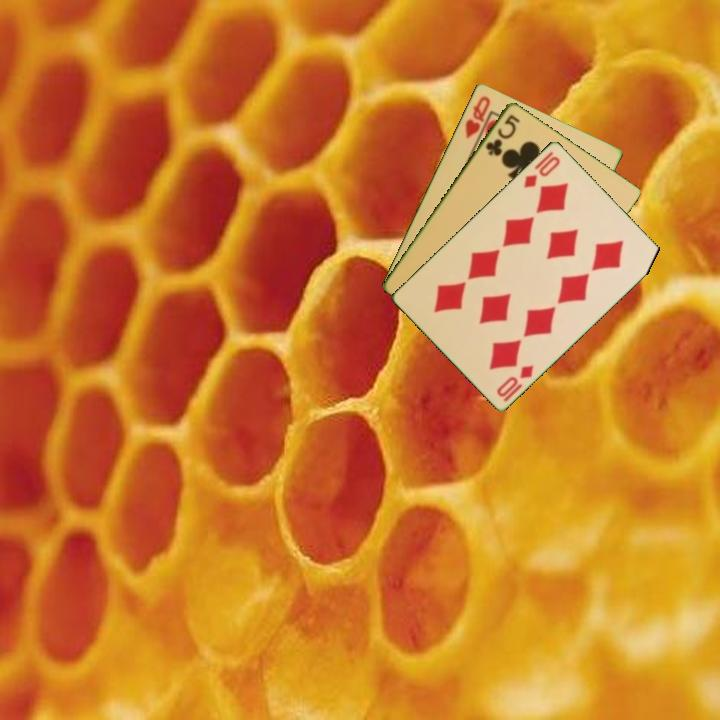10d: (493, 361, 537, 405), (520, 148, 563, 191)
5c: (482, 111, 523, 159)
Qh: (461, 92, 493, 141)
